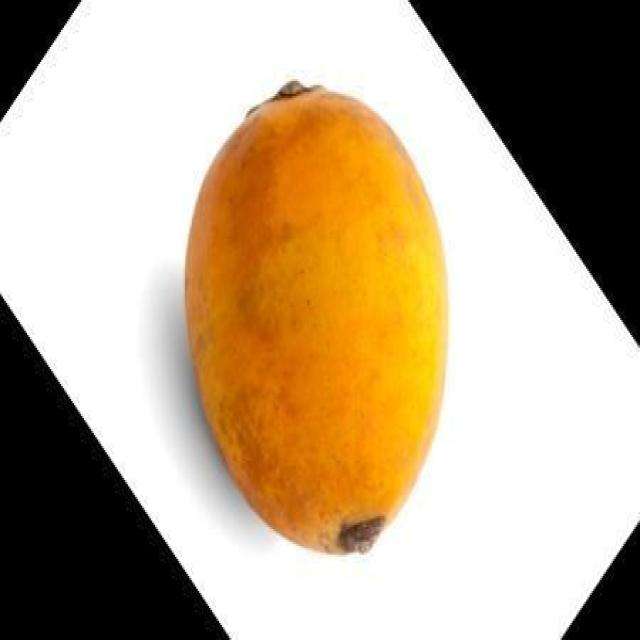good: (183, 83, 449, 557)
